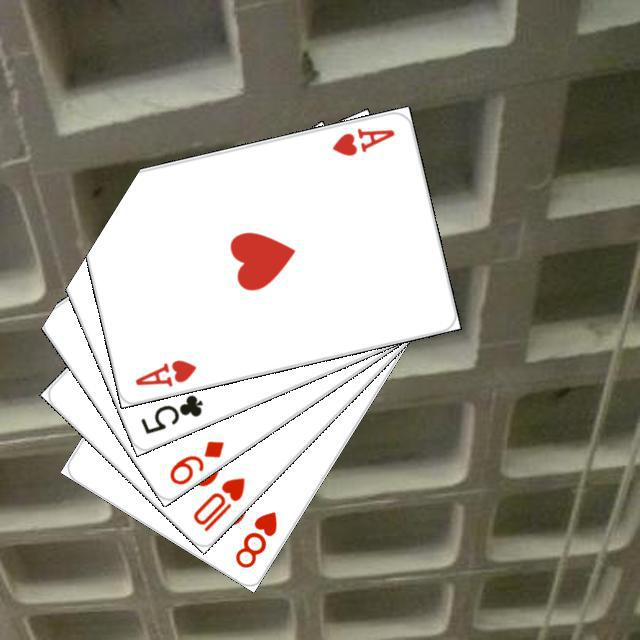10h: (188, 472, 247, 534)
5c: (135, 389, 205, 436)
8h: (230, 506, 279, 571)
9d: (164, 435, 226, 487)
Ah: (327, 123, 397, 158), (130, 354, 198, 388)
